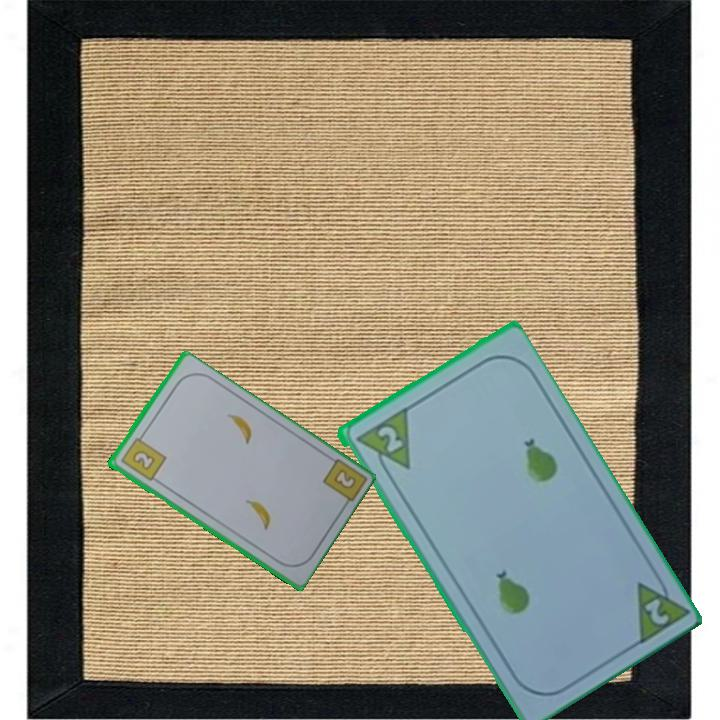2b: (117, 430, 168, 484), (330, 465, 359, 492)
2p: (351, 405, 413, 482), (631, 566, 689, 648)
